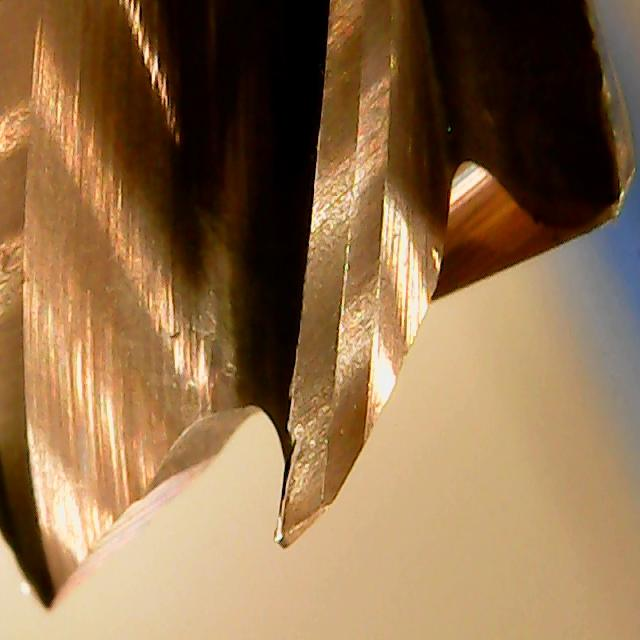Tool-wear-class-1: (257, 245, 397, 550)
